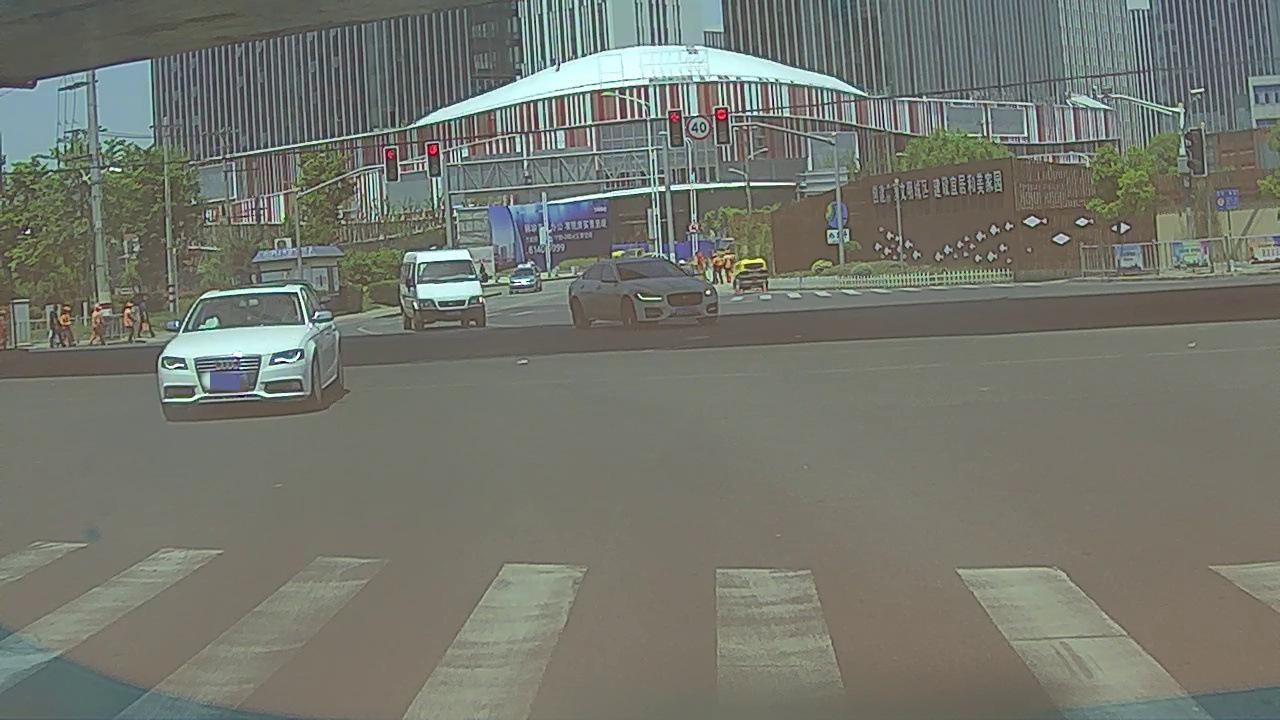traffic_light: (714, 107, 730, 145), (667, 109, 682, 147), (428, 142, 441, 177), (385, 147, 398, 181)
